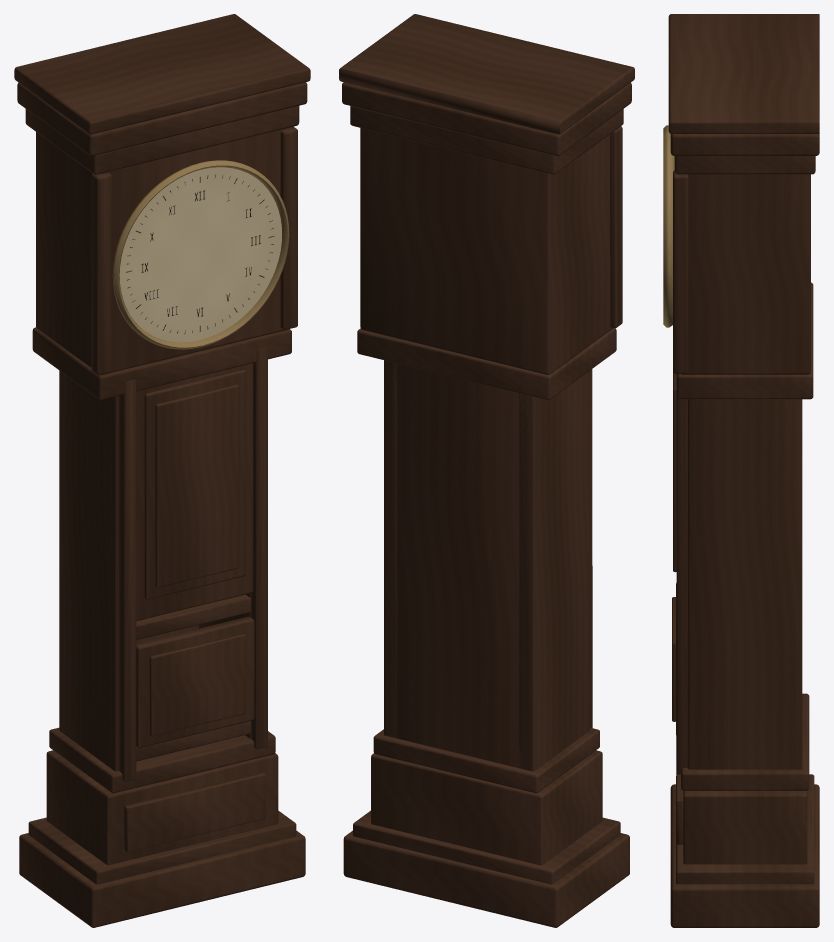
The model's file is victorian_grandfather_clock.glb.
3 renders of one model, left to right at view 1: azimuth 30°, elevation 25°; view 2: azimuth 150°, elevation 25°; view 3: azimuth 270°, elevation 25°, orthographic.
Visible parts, largest first — view 1: Victorian_Clock_Static_Shell, Clock_Reward_Service_Panel; view 2: Victorian_Clock_Static_Shell; view 3: Victorian_Clock_Static_Shell, Clock_Reward_Service_Panel.
Boxes of the visible parts, x1,y1,x2,y2 form: Victorian_Clock_Static_Shell: (14,14,310,927); Clock_Reward_Service_Panel: (136,616,254,747); Victorian_Clock_Static_Shell: (339,14,634,927); Victorian_Clock_Static_Shell: (663,14,819,927); Clock_Reward_Service_Panel: (672,582,676,735).
Size of the model in its own units: 0.62 by 2.16 by 0.378.
3 materials, 2 textured.
